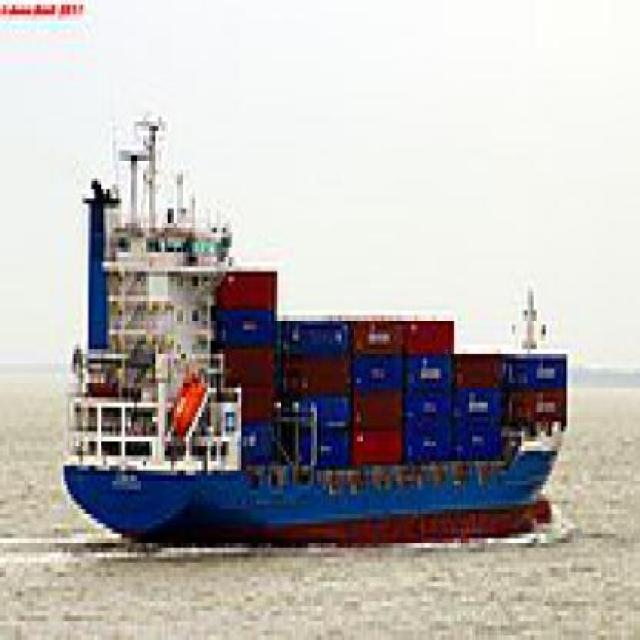container: (50, 73, 590, 564)
